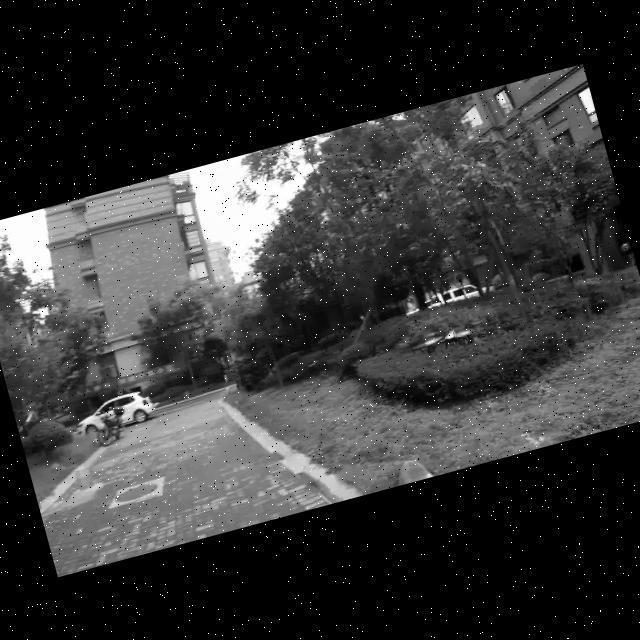Drons: (399, 307, 498, 369)
